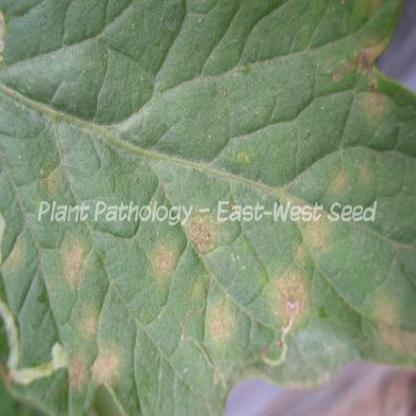tomato mold leaf: (3, 5, 415, 415)
